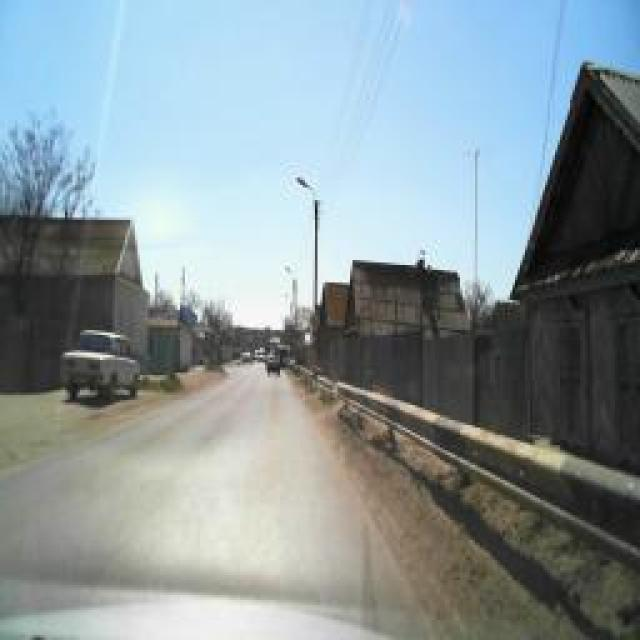sign: (309, 310, 321, 330)
